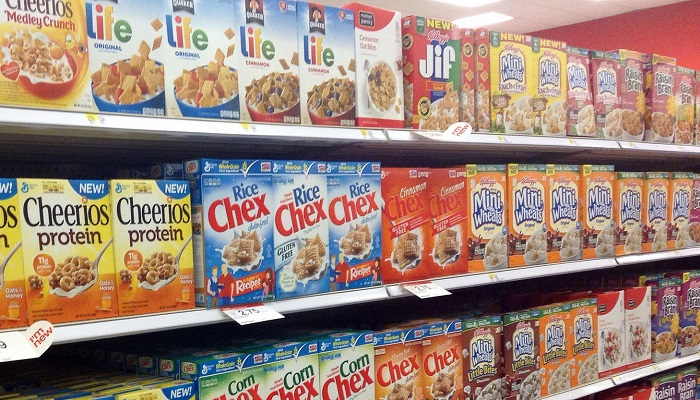cereal: (20, 181, 110, 326), (114, 177, 191, 320), (200, 175, 275, 306), (1, 2, 88, 108), (166, 2, 237, 121), (92, 1, 164, 113), (274, 173, 330, 296), (301, 10, 356, 129), (241, 3, 294, 122), (329, 176, 379, 294), (383, 169, 431, 287), (409, 18, 459, 130), (358, 18, 401, 131), (430, 167, 472, 278), (491, 33, 535, 135), (471, 166, 508, 273), (510, 165, 547, 270), (584, 165, 617, 263), (378, 329, 421, 400), (423, 323, 462, 400), (466, 317, 502, 400), (549, 167, 579, 266), (537, 35, 566, 136), (541, 309, 570, 396), (597, 291, 626, 375), (507, 313, 535, 400), (640, 171, 670, 252), (625, 286, 652, 375), (616, 173, 644, 255), (571, 297, 596, 388)
